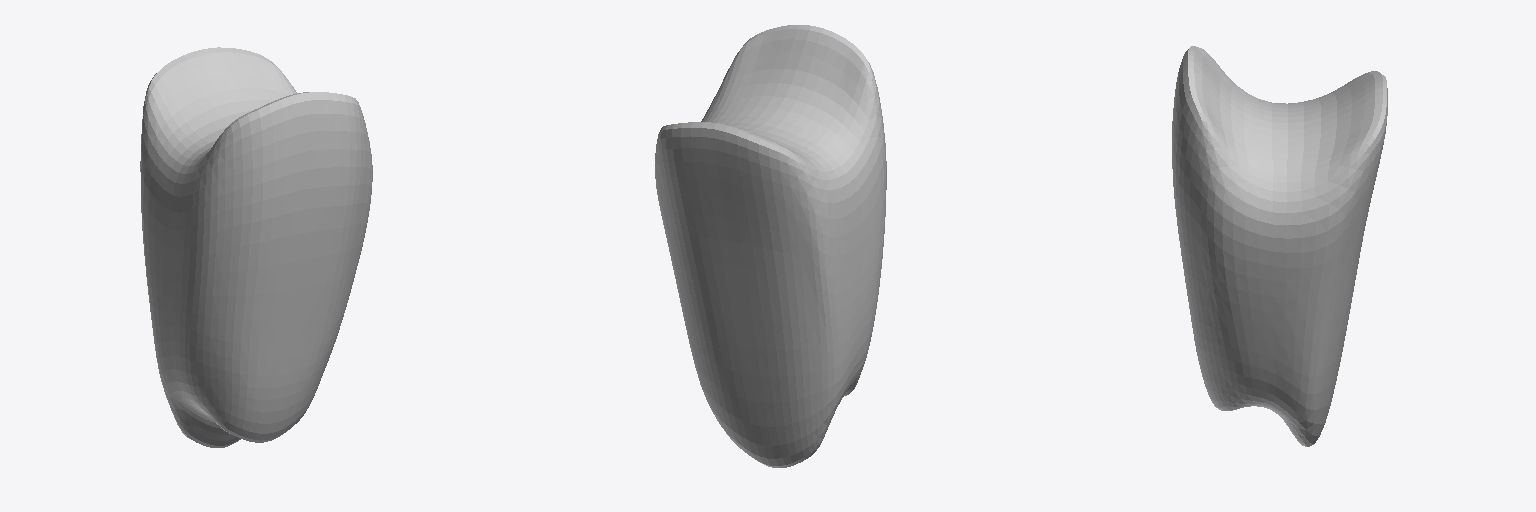
Rendered from m_ruleg.obj.
3 renders of one model, left to right at view 1: azimuth 30°, elevation 25°; view 2: azimuth 150°, elevation 25°; view 3: azimuth 270°, elevation 25°, orthographic.
Parts seen in each view (by area): view 1: pCube8; view 2: pCube8; view 3: pCube8.
Part boxes in pixels (x1,y1,x2,y2): pCube8: (140, 47, 372, 447); pCube8: (655, 25, 886, 467); pCube8: (1172, 46, 1387, 446).
Bounding box in the file's own units: 0.7586 × 1.58 × 0.7857.